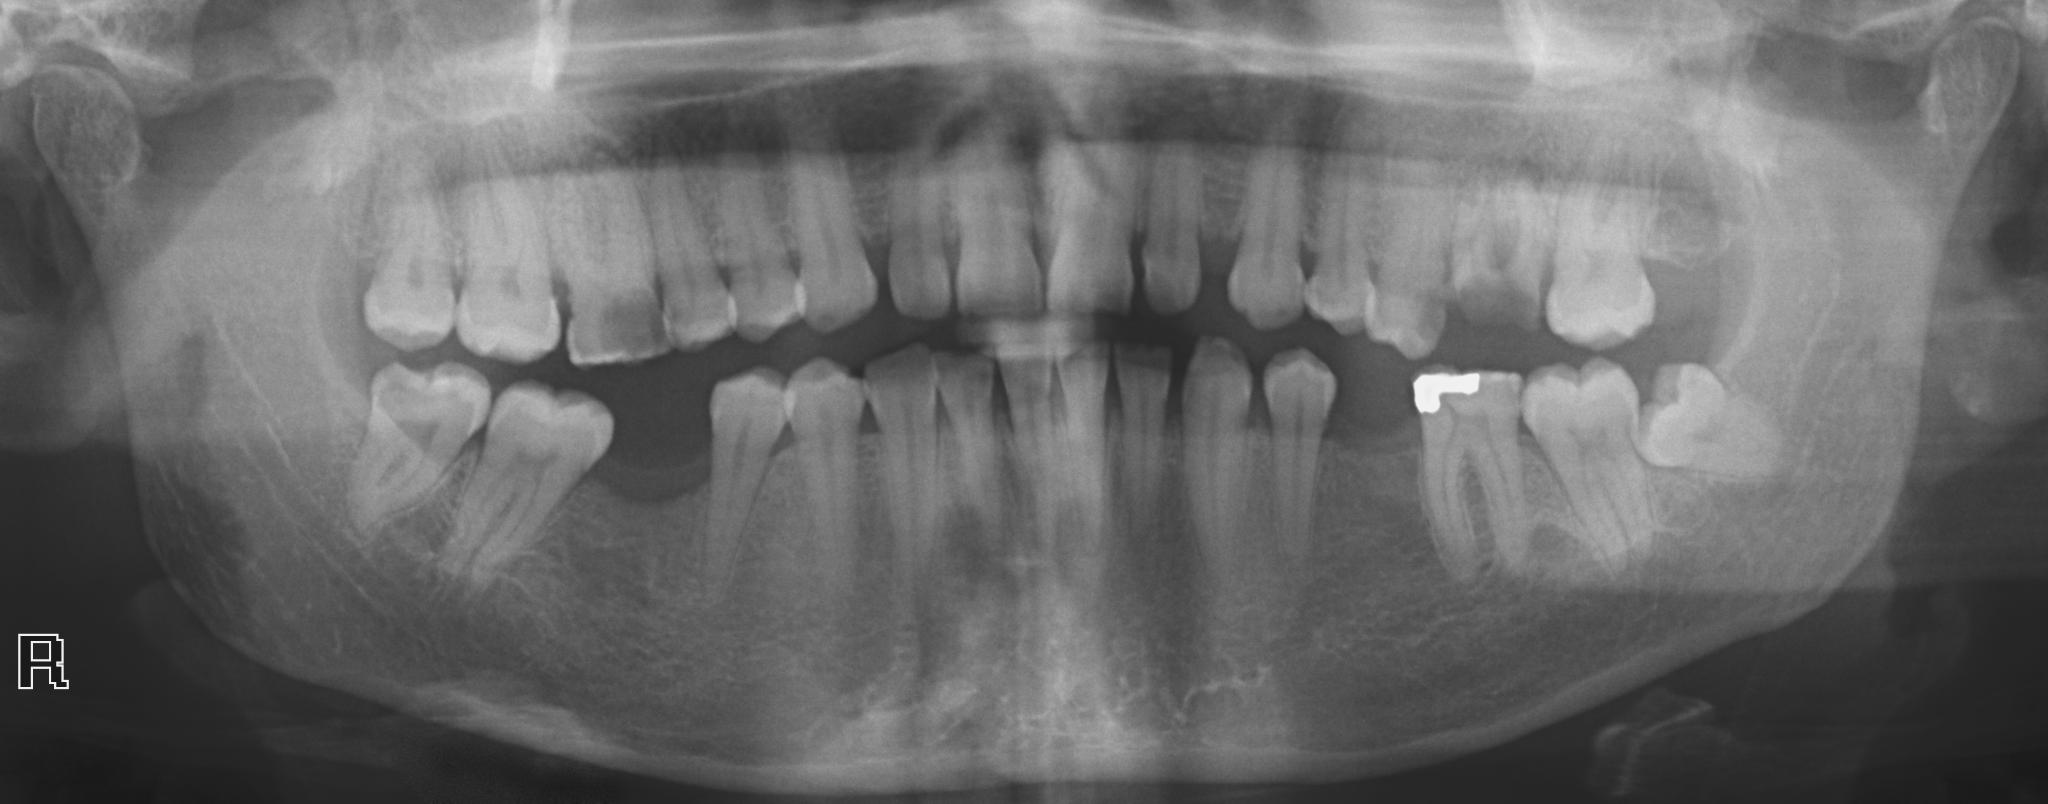Fillings: (1412, 365, 1532, 568)
Impacted Tooth: (1634, 355, 1802, 500)
